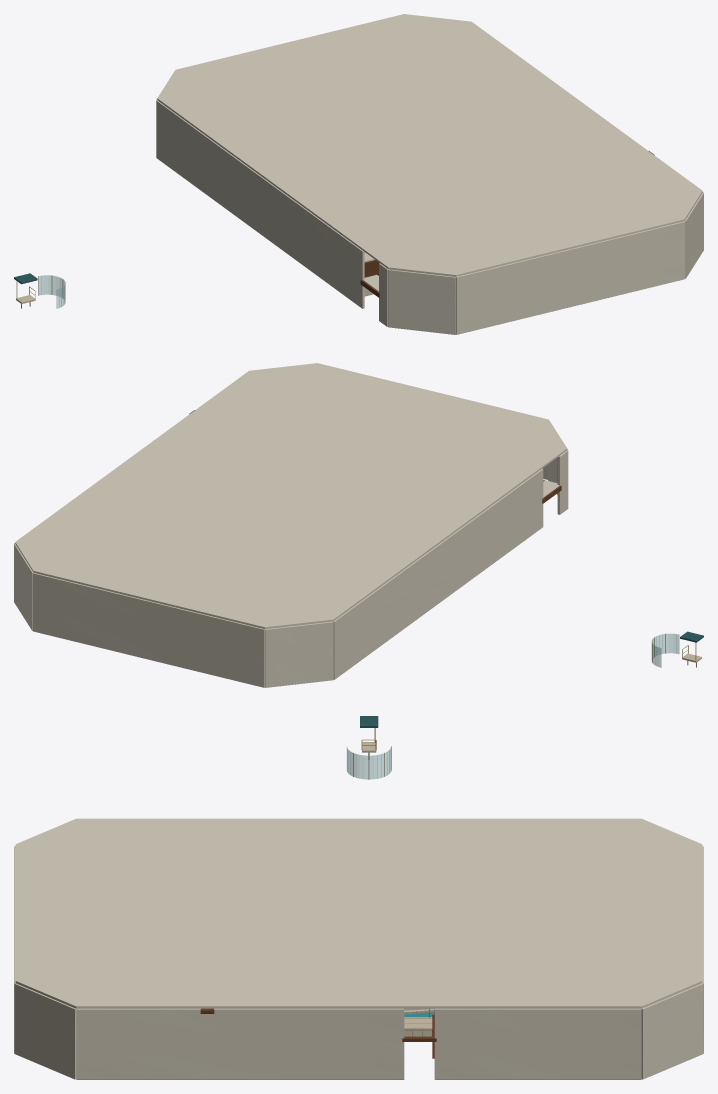
Rendered from AST-AQU-ANNEX-001.glb.
3 renders of one model, top to bottom at view 1: azimuth 30°, elevation 25°; view 2: azimuth 150°, elevation 25°; view 3: azimuth 270°, elevation 25°, orthographic. The views are drawn at different scales.
Visible parts, largest first — view 1: AQD_BATCH_roof_asset_ASTRAEA_ivory_enamel, AQD_BATCH_architecture_ASTRAEA_ivory_enamel, AQD_BATCH_architecture_AQD_glass; view 2: AQD_BATCH_roof_asset_ASTRAEA_ivory_enamel, AQD_BATCH_architecture_ASTRAEA_ivory_enamel, AQD_BATCH_architecture_AQD_glass; view 3: AQD_BATCH_roof_asset_ASTRAEA_ivory_enamel, AQD_BATCH_architecture_ASTRAEA_ivory_enamel, AQD_BATCH_architecture_AQD_glass.
Boxes of the visible parts, bbox=[...] form: AQD_BATCH_roof_asset_ASTRAEA_ivory_enamel: bbox=[157, 14, 702, 276]; AQD_BATCH_architecture_ASTRAEA_ivory_enamel: bbox=[156, 98, 703, 334]; AQD_BATCH_architecture_AQD_glass: bbox=[38, 275, 65, 308]; AQD_BATCH_roof_asset_ASTRAEA_ivory_enamel: bbox=[15, 363, 567, 629]; AQD_BATCH_architecture_ASTRAEA_ivory_enamel: bbox=[14, 449, 568, 687]; AQD_BATCH_architecture_AQD_glass: bbox=[651, 633, 679, 667]; AQD_BATCH_roof_asset_ASTRAEA_ivory_enamel: bbox=[15, 818, 702, 1008]; AQD_BATCH_architecture_ASTRAEA_ivory_enamel: bbox=[14, 846, 703, 1079]; AQD_BATCH_architecture_AQD_glass: bbox=[346, 747, 391, 779].
Size of the model in its own units: 79.52 by 9.15 by 68.32.
19 materials, 16 textured.
